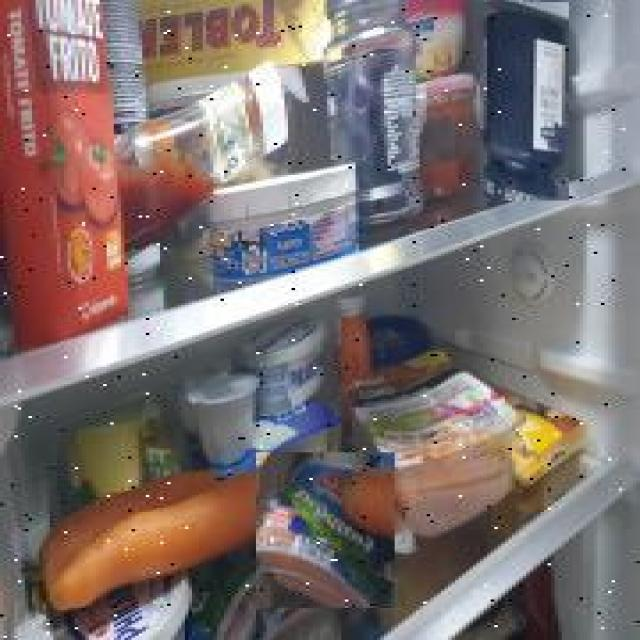carrot: (35, 458, 313, 604)
cheese: (208, 166, 364, 276)
marmelade: (480, 2, 569, 201)
sausage: (256, 452, 395, 608)
tomato_sauce: (2, 1, 130, 355)
